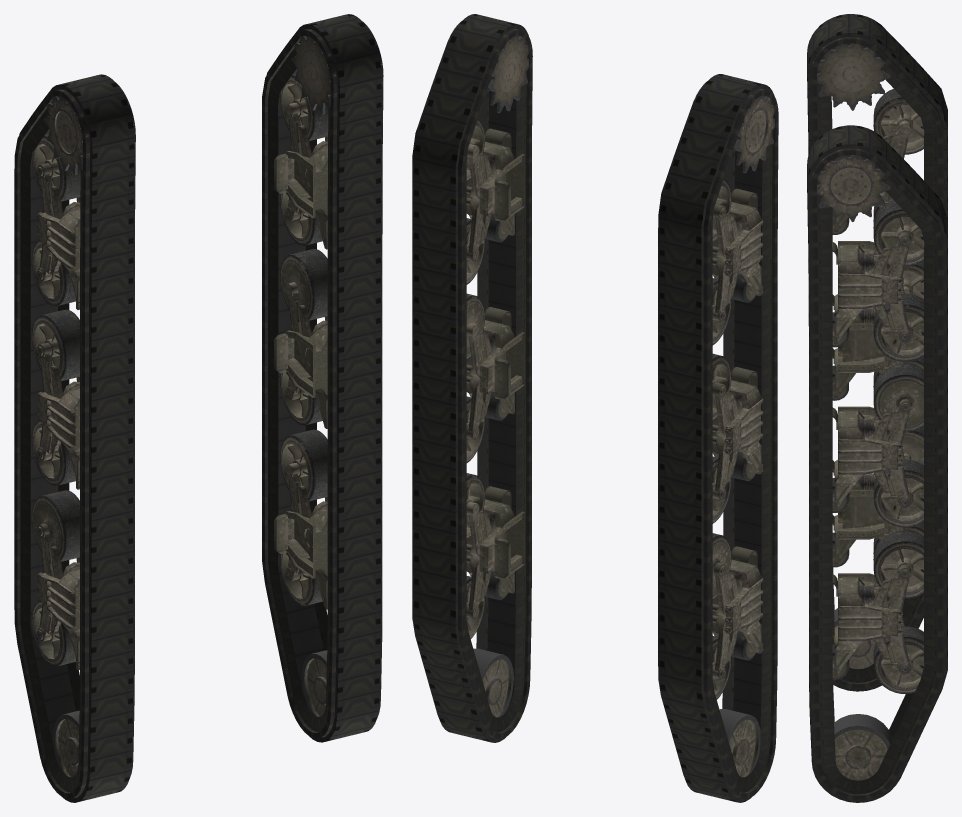
Rendered from Chassis.glb.
3 renders of one model, left to right at view 1: azimuth 30°, elevation 25°; view 2: azimuth 150°, elevation 25°; view 3: azimuth 270°, elevation 25°, orthographic. The views are drawn at different scales.
Parts seen in each view (by area): view 1: set_0_group_0, set_1_group_0, set_3_group_0, set_2_group_0; view 2: set_0_group_0, set_1_group_0, set_3_group_0, set_2_group_0; view 3: set_3_group_0, set_1_group_0, set_2_group_0, set_0_group_0.
Part boxes in pixels (box(x1,y1,x2,y2)): set_0_group_0: box(14, 74, 135, 802); set_1_group_0: box(262, 14, 383, 742); set_3_group_0: box(274, 27, 382, 716); set_2_group_0: box(31, 87, 135, 777); set_0_group_0: box(658, 74, 778, 802); set_1_group_0: box(412, 14, 532, 742); set_3_group_0: box(449, 28, 528, 717); set_2_group_0: box(695, 88, 774, 777); set_3_group_0: box(811, 149, 924, 780); set_1_group_0: box(807, 125, 947, 802); set_2_group_0: box(811, 37, 924, 669); set_0_group_0: box(807, 14, 947, 691).
Size of the model in its own units: 2.55 by 5.78 by 1.12.
4 materials, 4 textured.
